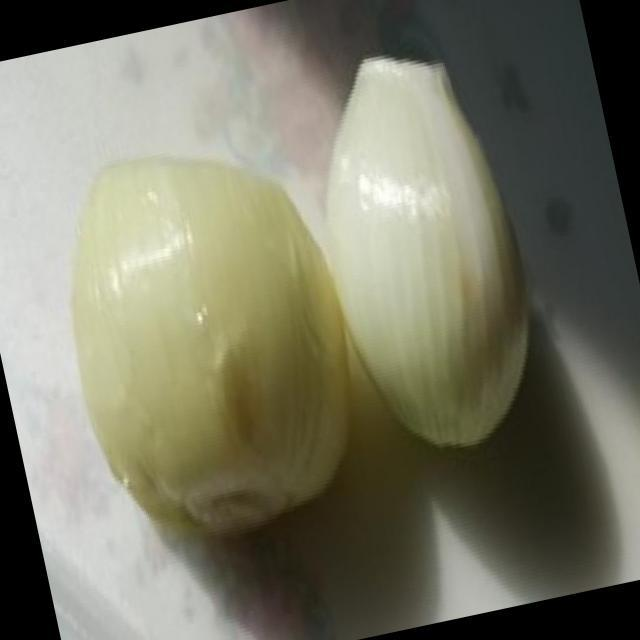Onion: (81, 159, 339, 530), (332, 57, 528, 440)
